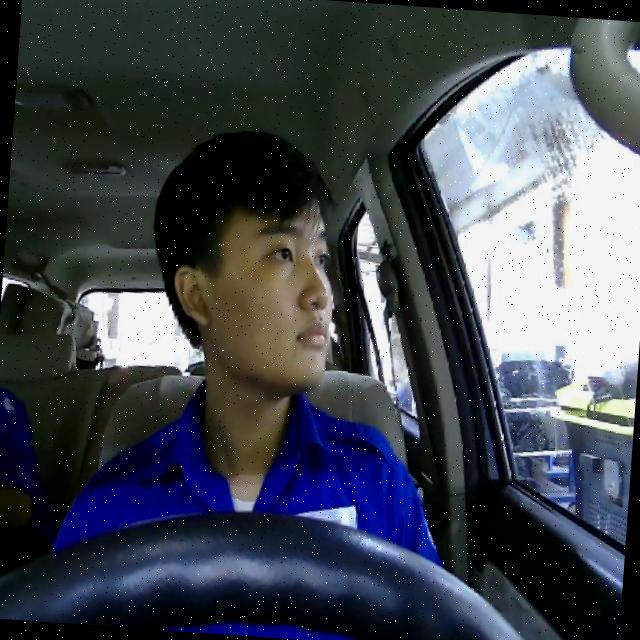seeing_right: (163, 181, 343, 392)
